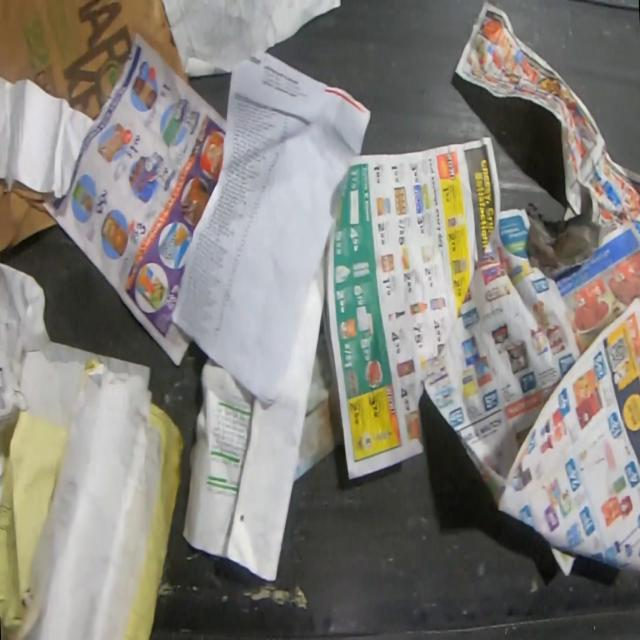cardboard: (0, 176, 57, 259)
